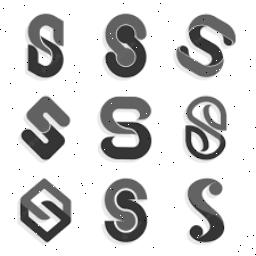s: (177, 168, 237, 250)
